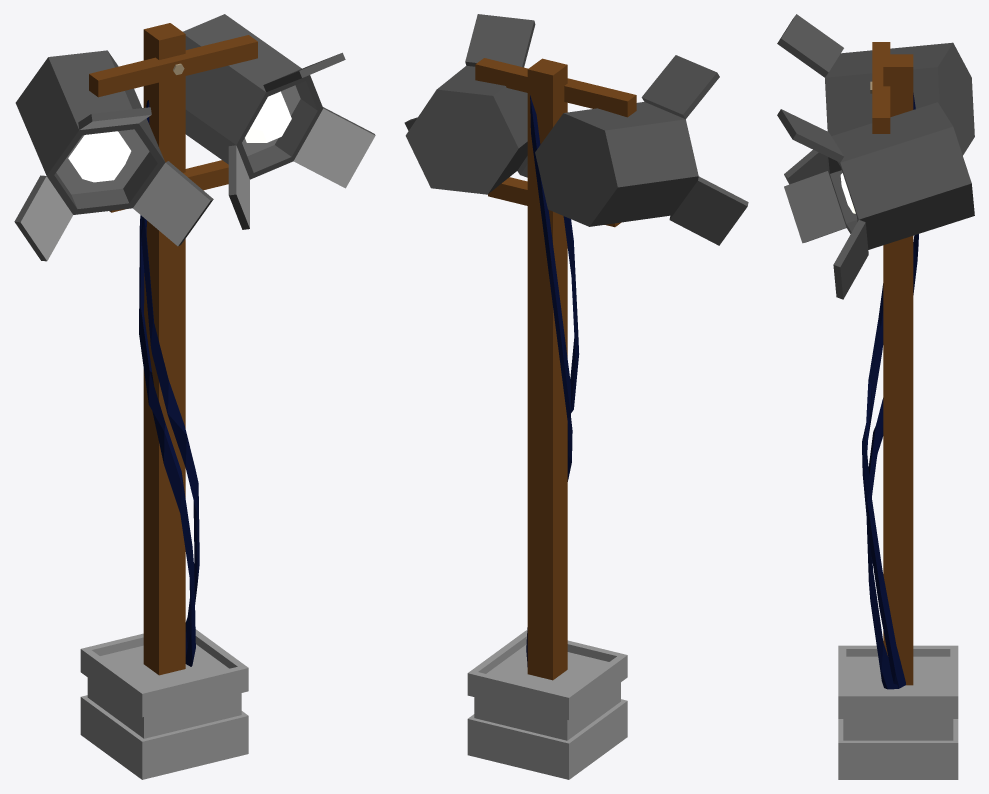
The model's file is Projecteur.fbx.
3 views of the same model, side by side, from view 1: azimuth 30°, elevation 25°; view 2: azimuth 150°, elevation 25°; view 3: azimuth 270°, elevation 25° (orthographic). The views are drawn at different scales.
Visible parts, largest first — view 1: pCylinder1, pCube1, pCylinder2, pCube3, pCube2, pTorus2, pTorus1, pCube4; view 2: pCylinder1, pCube1, pCube3, pCylinder2, pCube2, pTorus2, pTorus1, pCube4; view 3: pCylinder2, pCube3, pCube1, pCylinder1, pTorus1, pTorus2, pCube2.
Part boxes in pixels (<box>): pCylinder1: <box>14,50,213,261</box>; pCube1: <box>143,23,185,675</box>; pCylinder2: <box>183,14,375,229</box>; pCube3: <box>80,629,248,779</box>; pCube2: <box>89,35,257,97</box>; pTorus2: <box>139,215,195,666</box>; pTorus1: <box>141,100,199,656</box>; pCube4: <box>109,160,228,212</box>; pCylinder1: <box>535,55,748,245</box>; pCube1: <box>527,58,567,680</box>; pCube3: <box>467,630,627,779</box>; pCylinder2: <box>404,14,535,194</box>; pCube2: <box>475,58,636,117</box>; pTorus2: <box>527,95,572,666</box>; pTorus1: <box>526,216,579,664</box>; pCube4: <box>488,177,621,227</box>; pCylinder2: <box>777,102,974,299</box>; pCube3: <box>838,645,958,779</box>; pCube1: <box>883,54,913,685</box>; pCylinder1: <box>777,14,974,184</box>; pTorus1: <box>862,283,905,688</box>; pTorus2: <box>866,93,918,689</box>; pCube2: <box>872,42,890,133</box>.
Size of the model in its own units: 6.76 by 13 by 3.3.
